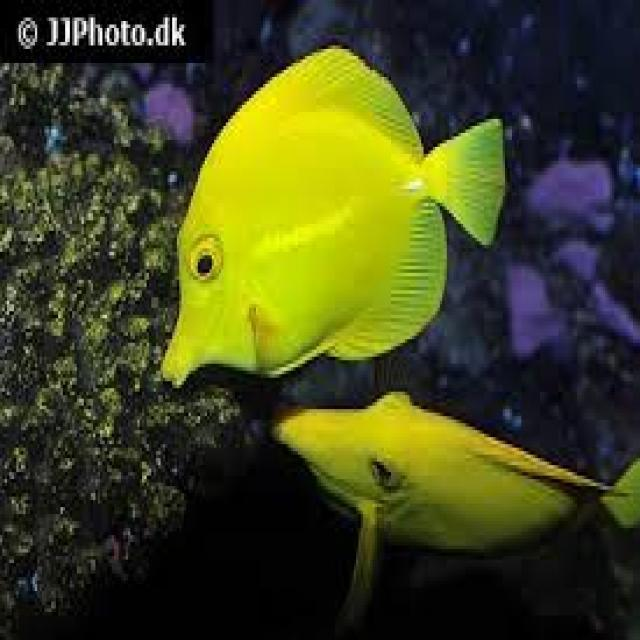YellowTang: (163, 38, 511, 382), (277, 388, 640, 591)
